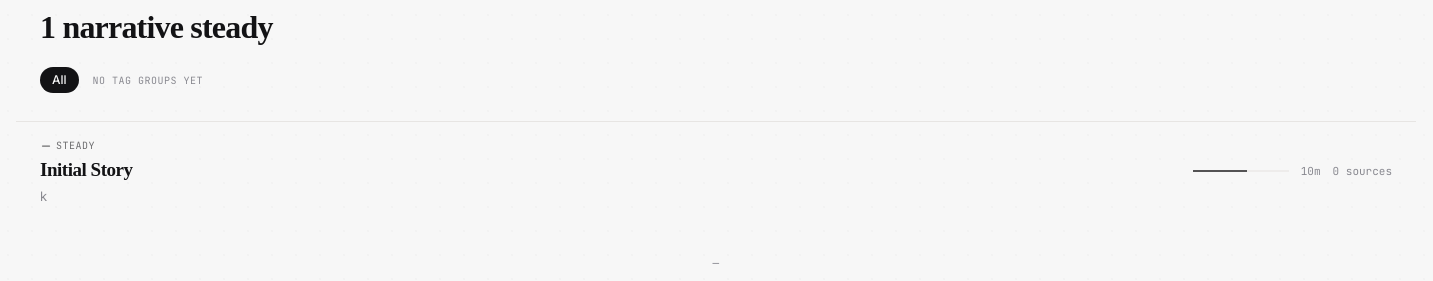
Scenario: Heartbeat → Dashboard story overlay › replaces on-screen stories when a heartbeat-driven refresh result arrives via context
Expected: the heading "Initial Story" is shown, [40, 159, 132, 180]
Click the button with test id "pill-all".
click(59, 80)  # box [40, 67, 79, 93]
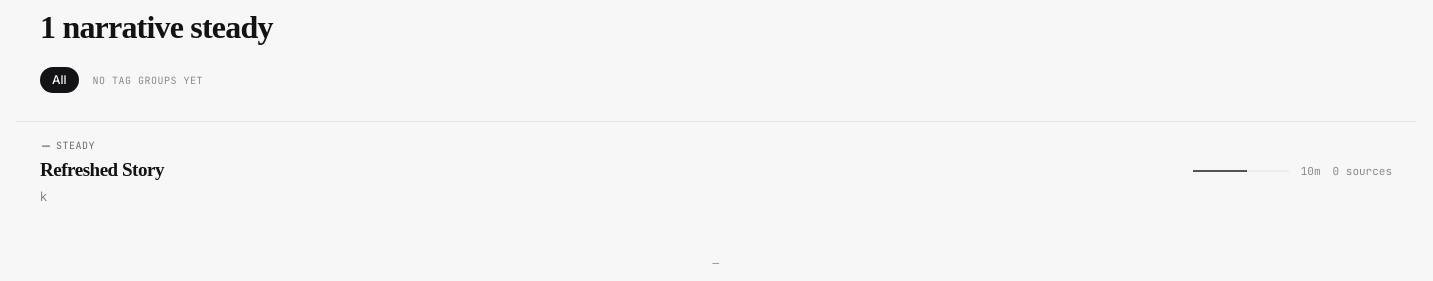
Result: the button "Initial Story" is gone
Result: the heading "Refreshed Story" is shown at [40, 159, 164, 180]
